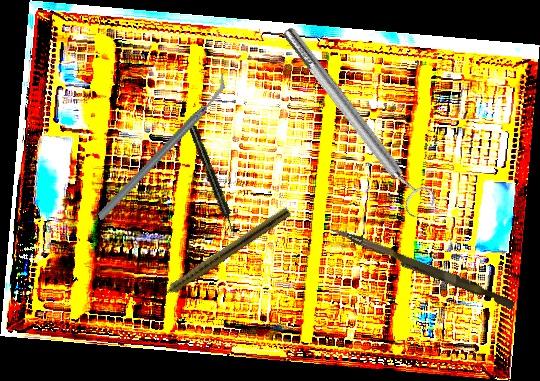Chopper: (66, 73, 258, 222)
Fixation Ring: (274, 18, 440, 222)
Handpiece: (149, 203, 293, 307), (184, 117, 238, 233)
Pusher: (328, 226, 517, 310)
